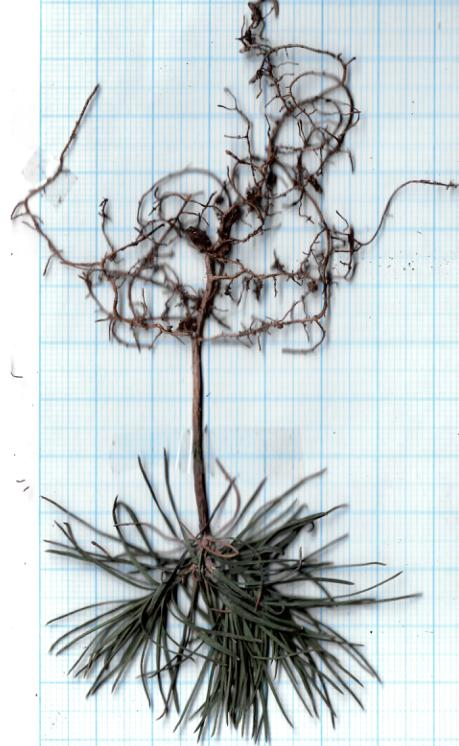flower: (31, 449, 430, 746)
root: (8, 0, 459, 357)
stem: (176, 348, 223, 530)
